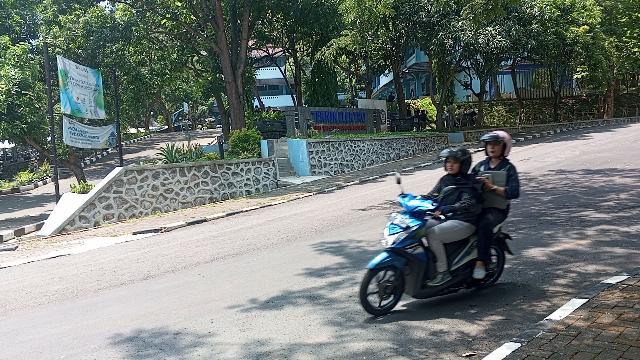helm: (480, 130, 515, 163), (438, 147, 474, 177)
motor: (358, 172, 516, 319)
